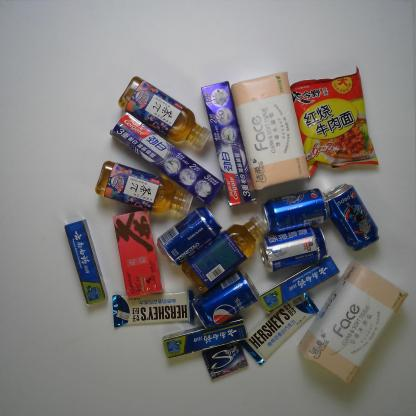Alcohol: (156, 208, 222, 266), (258, 226, 328, 272)
Chocolate: (242, 290, 320, 365), (111, 290, 195, 327)
Drink: (118, 76, 212, 151), (180, 214, 269, 292), (95, 161, 194, 215), (190, 271, 261, 329), (324, 183, 380, 252), (261, 188, 333, 234)
Gum: (202, 338, 248, 378)
Instant Drink: (112, 210, 165, 299)
Instant Noodles: (284, 66, 379, 177)
Personal Hygiene: (111, 113, 225, 207), (200, 79, 257, 207), (260, 255, 339, 314), (162, 314, 249, 358), (65, 218, 108, 304)
Tissue: (298, 261, 408, 384), (230, 72, 311, 192)
